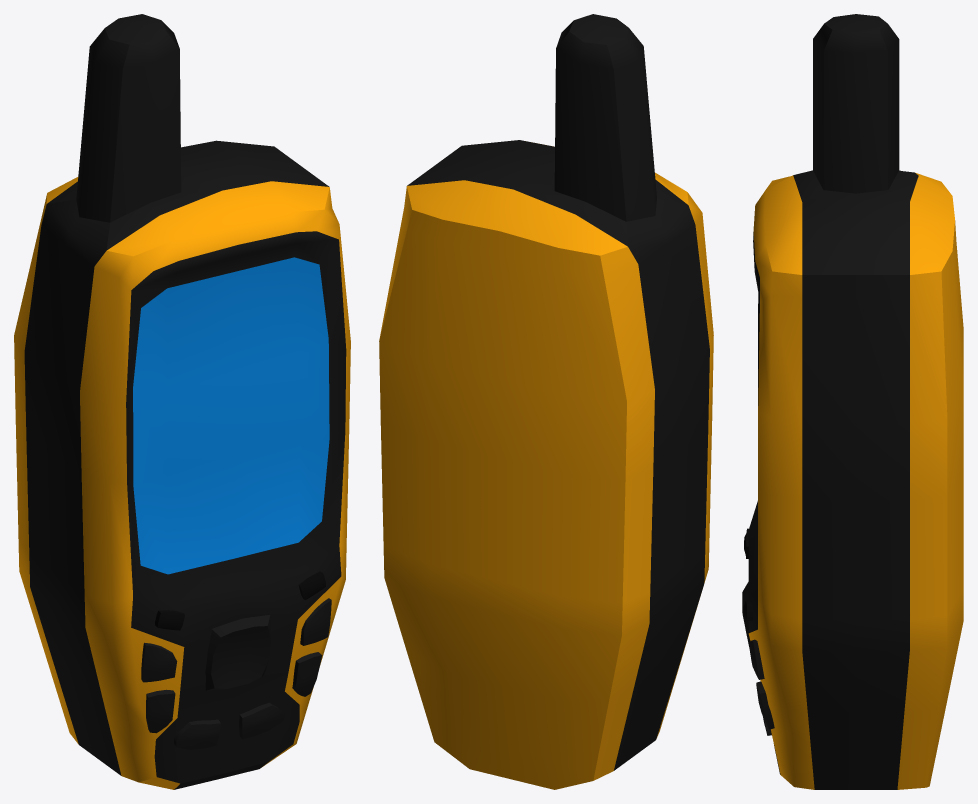
3 views of the same model, side by side, from view 1: azimuth 30°, elevation 25°; view 2: azimuth 150°, elevation 25°; view 3: azimuth 270°, elevation 25° (orthographic). The views are drawn at different scales.
Parts seen in each view (by area): view 1: Handheld_GPS_geo GPS_Main_Body (×3), Main_button Handheld_GPS_geo, Handheld_GPS_geo R_med_Button1, Handheld_GPS_geo R_Big_Button, Handheld_GPS_geo L_Big_Button, Handheld_GPS_geo R_med_Button2, Handheld_GPS_geo L_med_Button1, Handheld_GPS_geo L_med_Button2; view 2: Handheld_GPS_geo GPS_Main_Body (×2); view 3: Handheld_GPS_geo GPS_Main_Body (×2), Handheld_GPS_geo L_med_Button2.
Boxes of the visible parts, bbox=[...] form: Handheld_GPS_geo GPS_Main_Body (×3): bbox=[14, 14, 350, 789]; Main_button Handheld_GPS_geo: bbox=[205, 615, 270, 690]; Handheld_GPS_geo R_med_Button1: bbox=[141, 642, 177, 682]; Handheld_GPS_geo R_Big_Button: bbox=[174, 719, 220, 749]; Handheld_GPS_geo L_Big_Button: bbox=[239, 702, 284, 738]; Handheld_GPS_geo R_med_Button2: bbox=[146, 689, 175, 733]; Handheld_GPS_geo L_med_Button1: bbox=[300, 598, 331, 645]; Handheld_GPS_geo L_med_Button2: bbox=[292, 652, 322, 696]; Handheld_GPS_geo GPS_Main_Body (×2): bbox=[379, 14, 713, 789]; Handheld_GPS_geo GPS_Main_Body (×2): bbox=[748, 14, 963, 789]; Handheld_GPS_geo L_med_Button2: bbox=[756, 681, 774, 729].
Bounding box in the file's own units: 7.28 × 19.44 × 5.37.
